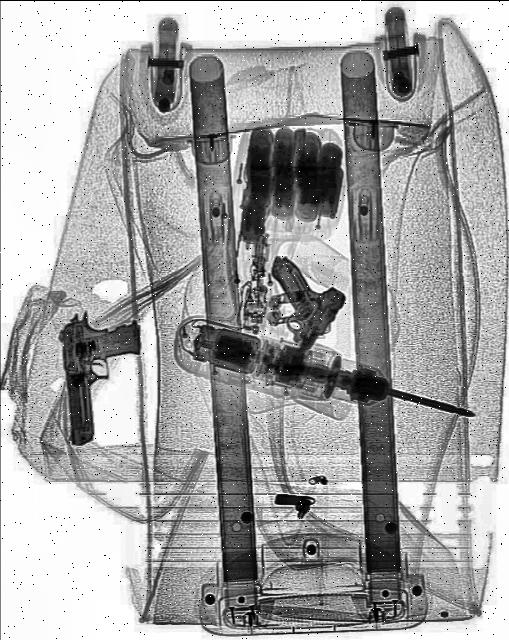Gun: (235, 238, 350, 370), (57, 303, 149, 443)
